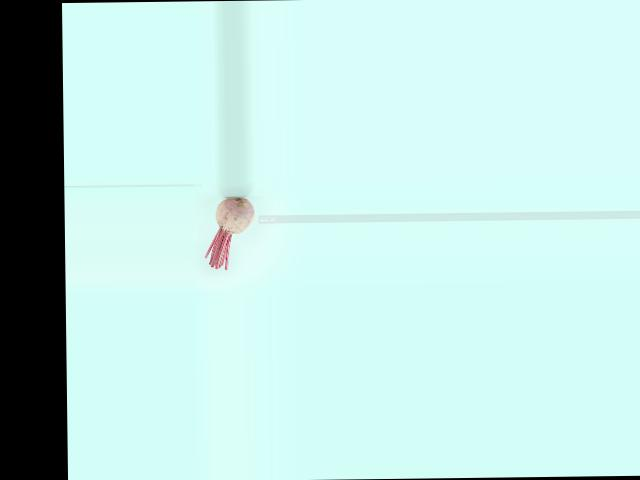beet: (204, 196, 255, 270)
